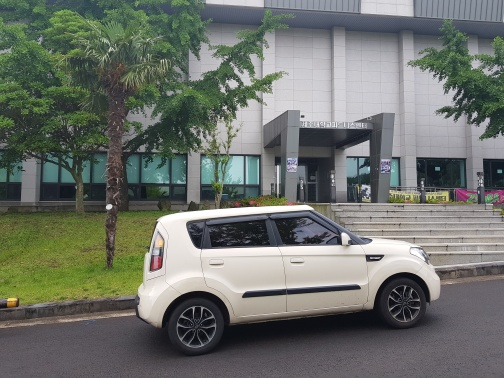Gym: (189, 4, 503, 206), (256, 97, 407, 204)
